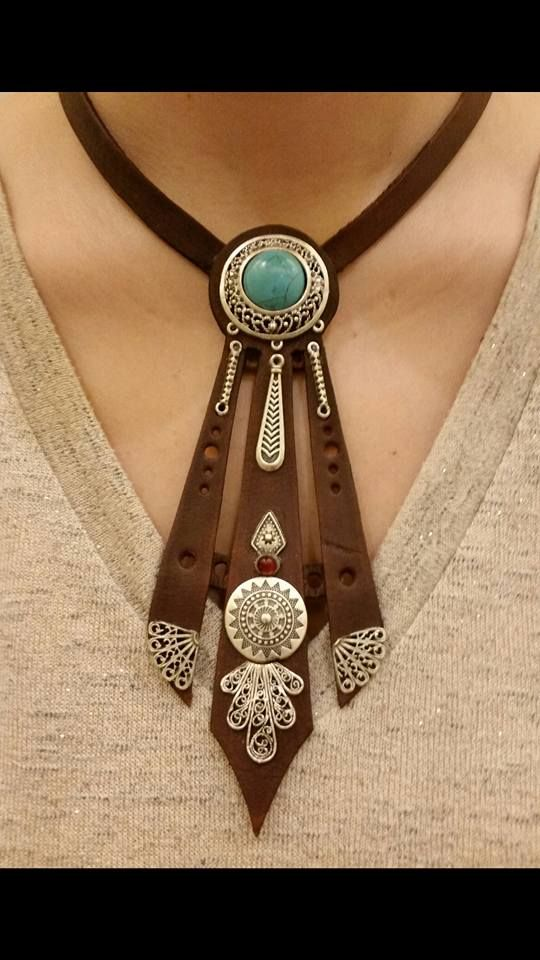cuero: (57, 91, 488, 836)
